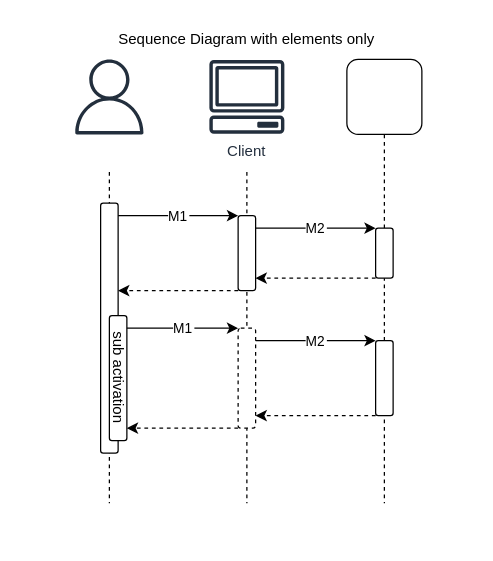
The diagram is 493 pixels wide and 561 high, and some of its shapes have lost their labels. The shapes that lost their labels are listed below. From the top down, each one's box as (x1, y1, x2, y2) in pixels, then its label:
(71, 59, 146, 134): User
(346, 58, 422, 134): Servers
